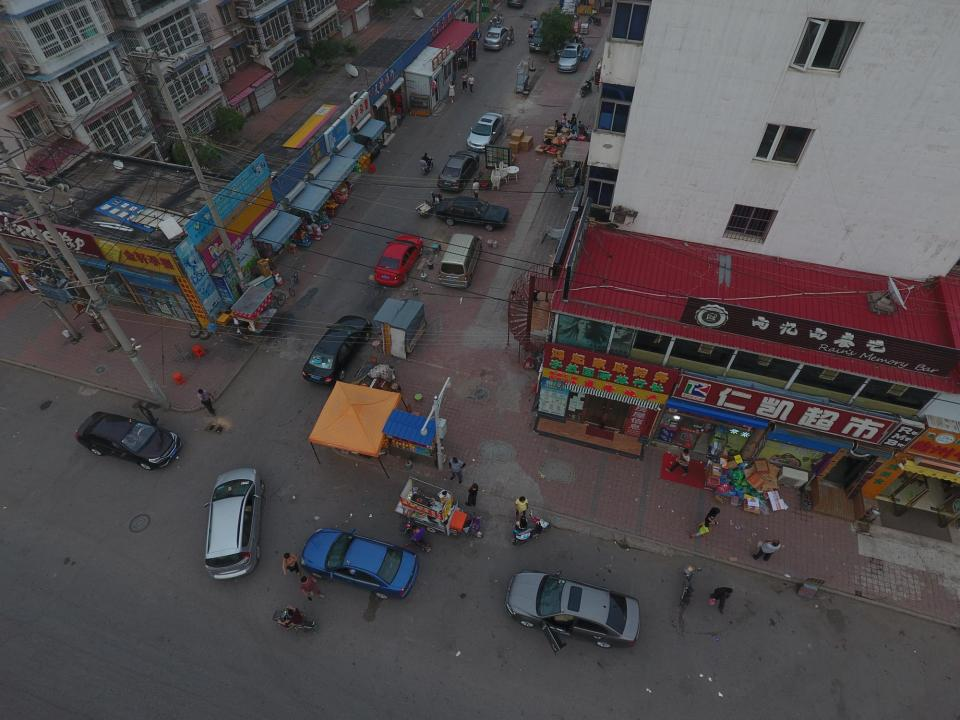car: (503, 569, 641, 657), (300, 527, 419, 599), (74, 403, 181, 470), (202, 468, 266, 579), (301, 314, 373, 387), (373, 234, 424, 286), (434, 197, 510, 231), (436, 150, 482, 192), (466, 111, 504, 152), (556, 42, 583, 72)
van: (438, 233, 484, 288)
